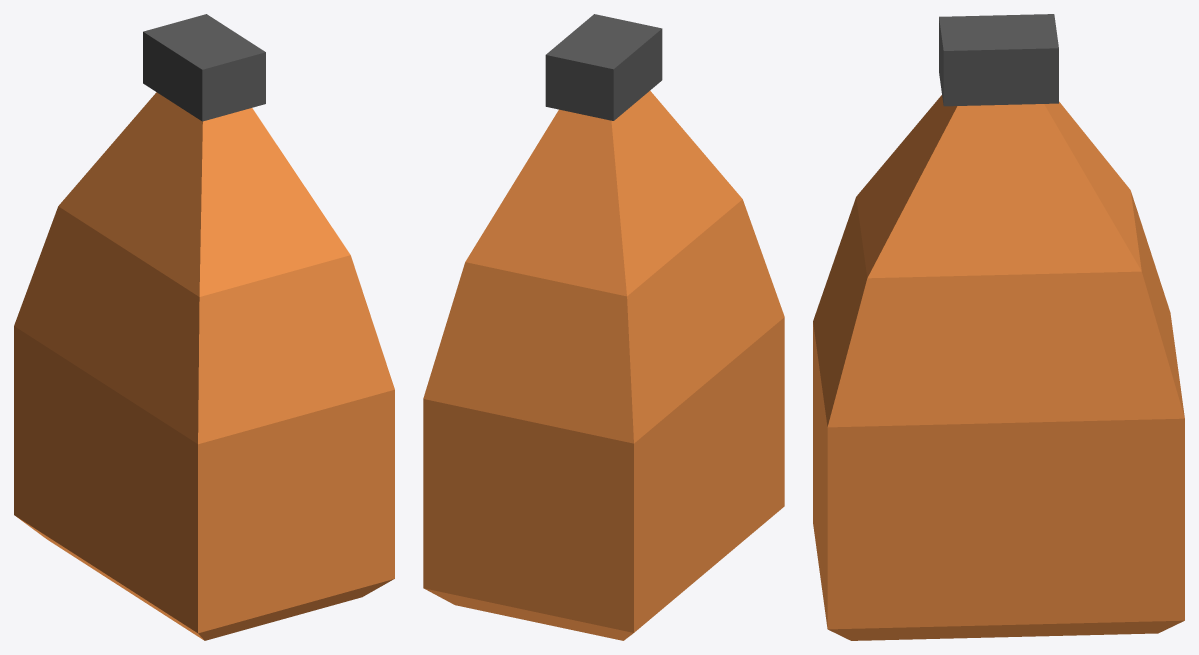
The model's file is Bottle_32.fbx.
The picture shows the model from 3 angles, left to right: view 1: azimuth 30°, elevation 25°; view 2: azimuth 150°, elevation 25°; view 3: azimuth 270°, elevation 25°; orthographic projection. The views are drawn at different scales.
Parts seen in each view (by area): view 1: Bottle_32; view 2: Bottle_32; view 3: Bottle_32.
Part boxes in pixels (<box>): Bottle_32: <box>14,14,394,640</box>; Bottle_32: <box>423,14,784,640</box>; Bottle_32: <box>813,14,1184,640</box>.
Bounding box in the file's own units: 11.24 × 15.38 × 25.65.
